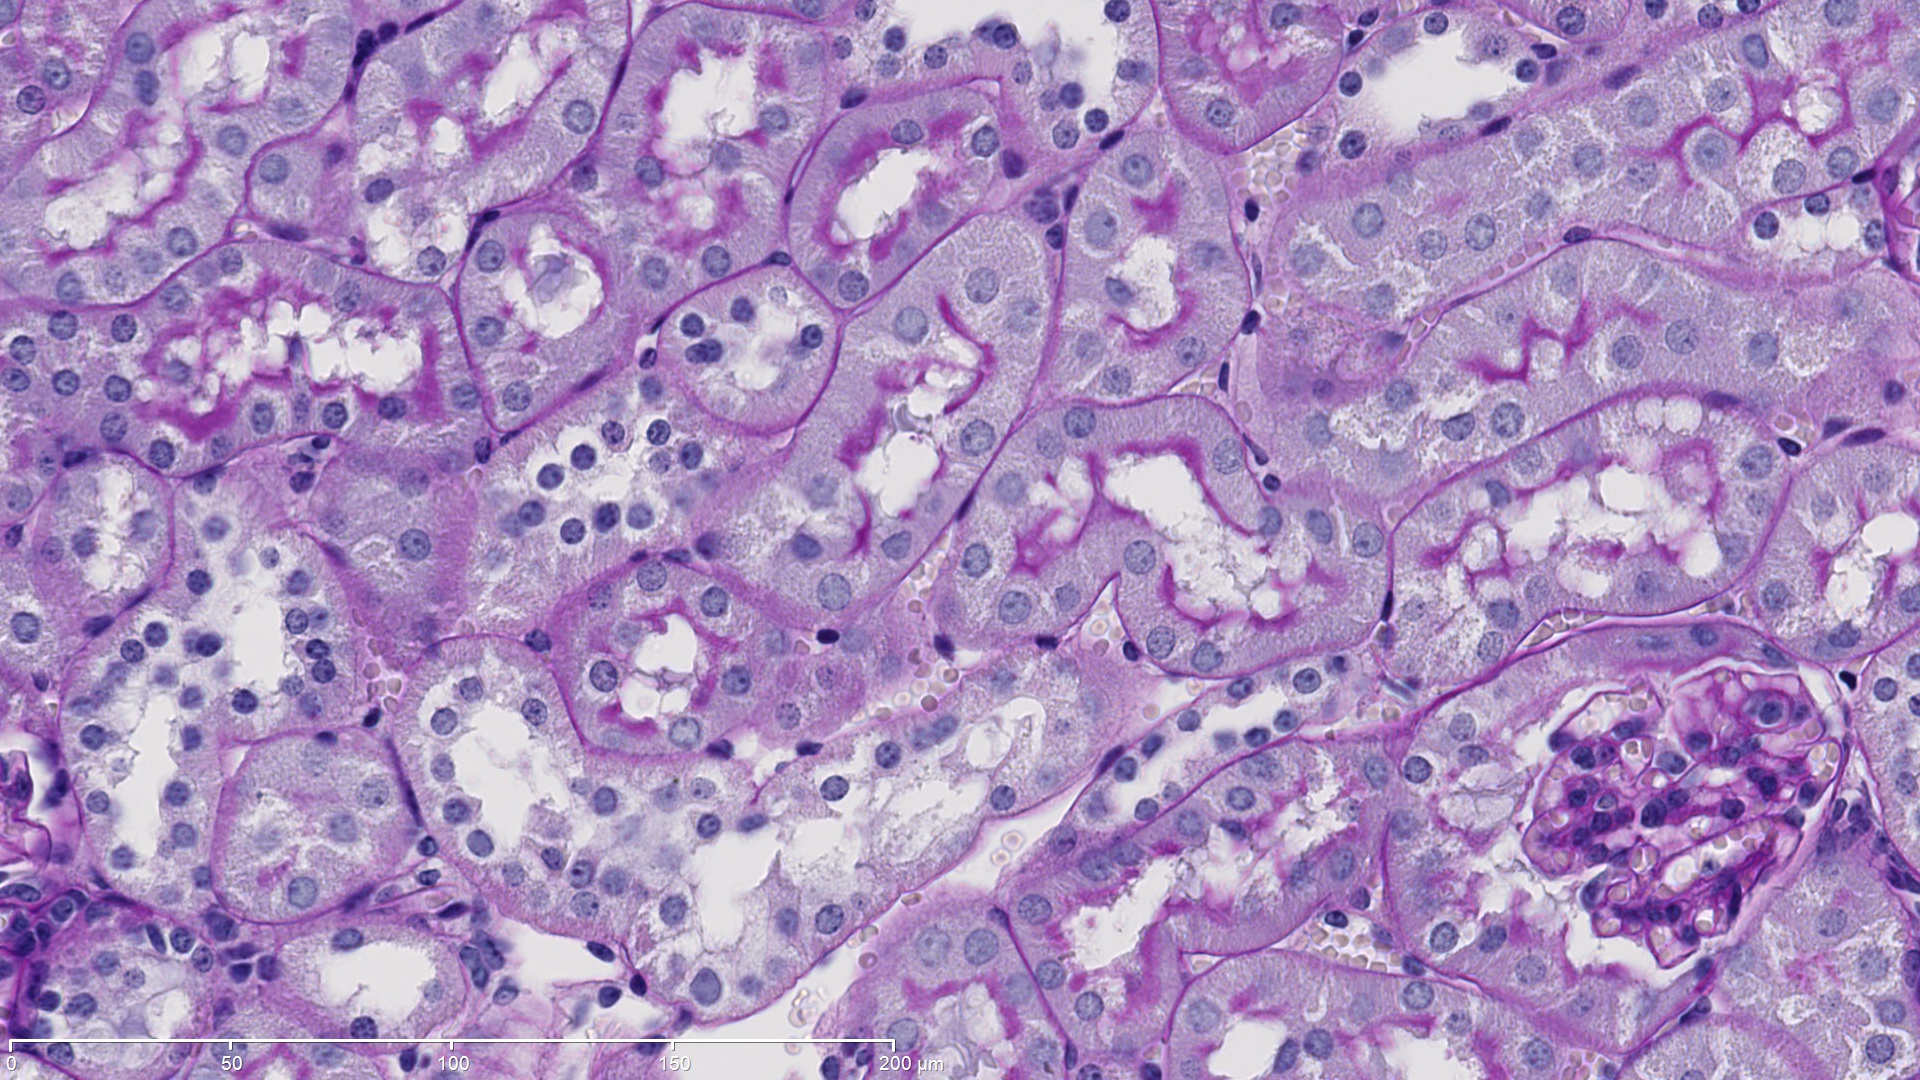Glomeruli: (1524, 658, 1859, 973)
